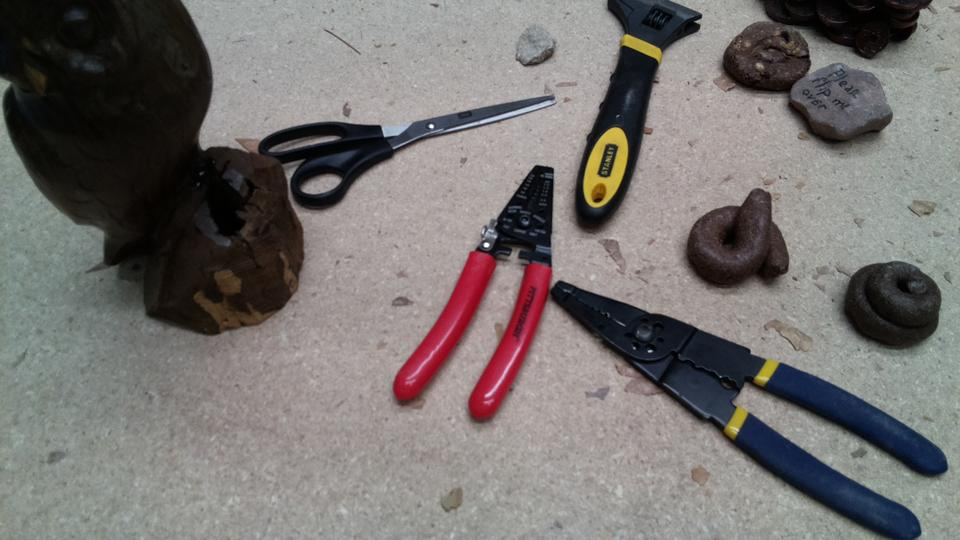poop: (683, 184, 793, 289), (839, 258, 948, 352), (721, 19, 814, 91)
